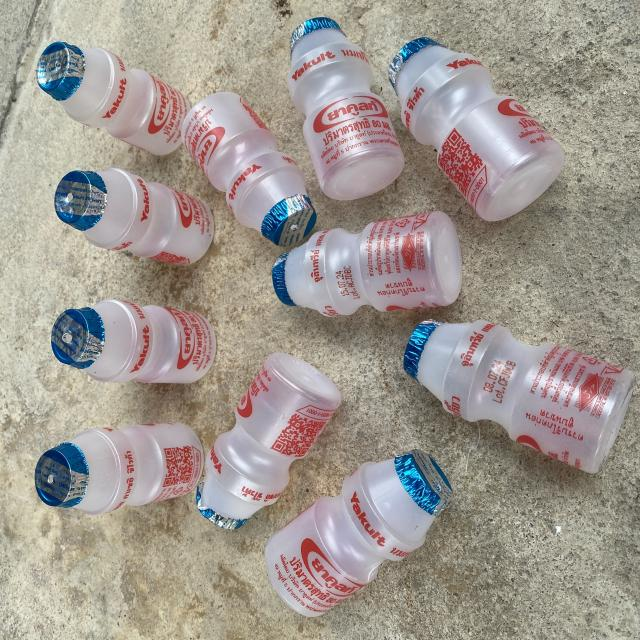Single-Use-Plastic: (404, 320, 635, 472), (389, 38, 564, 221), (265, 451, 452, 618), (196, 352, 341, 529), (288, 19, 404, 200), (182, 92, 316, 246), (272, 211, 461, 316), (36, 42, 190, 155), (35, 422, 204, 515), (55, 169, 214, 265), (51, 299, 216, 384)
